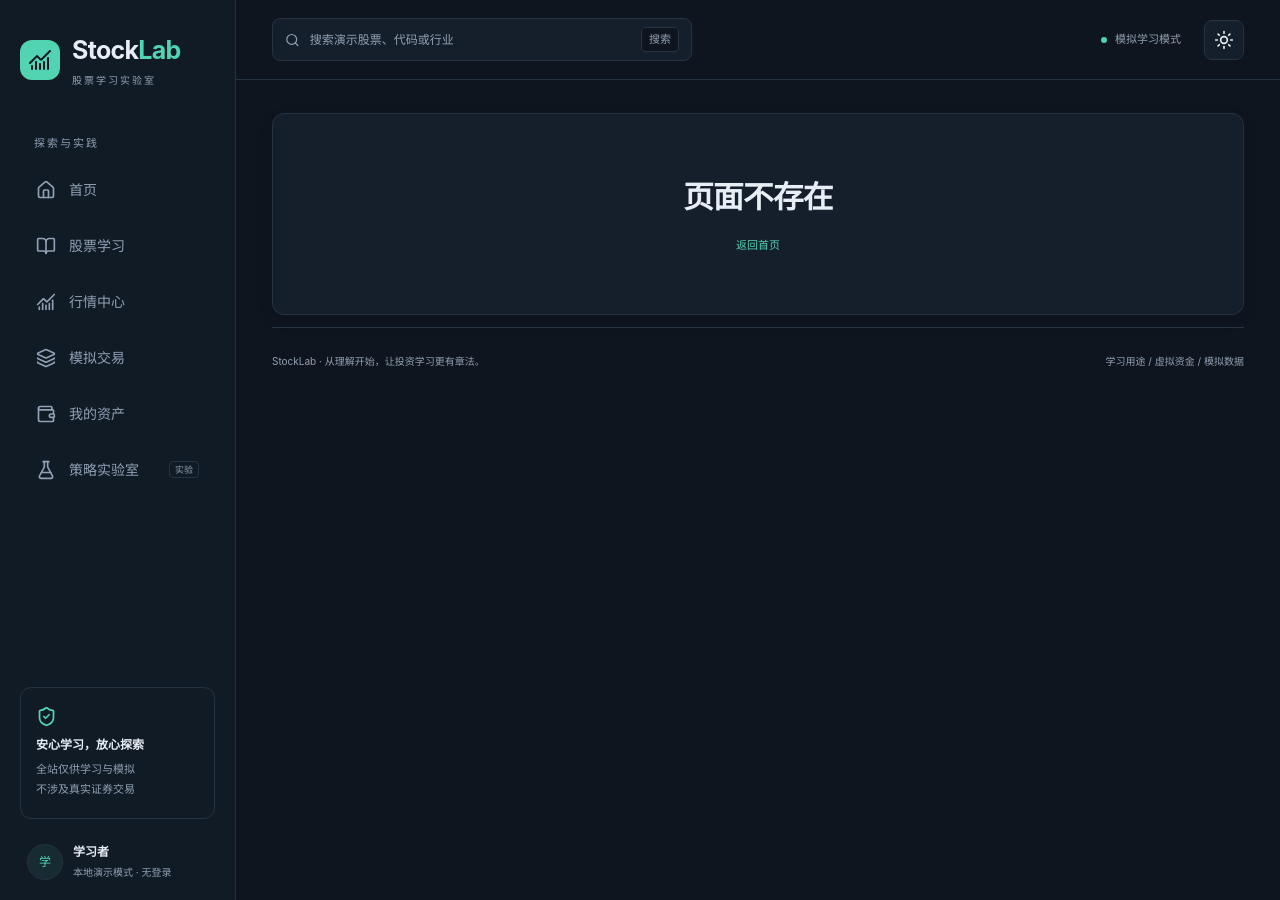
it: 六个页面均能通过导航访问，未知路径可以返回首页
The image size is (1280, 900).
expect the heading "页面不存在" is shown: met, box [683,174,833,220]
Click the link "首页": (66, 190) [36,180,97,200]
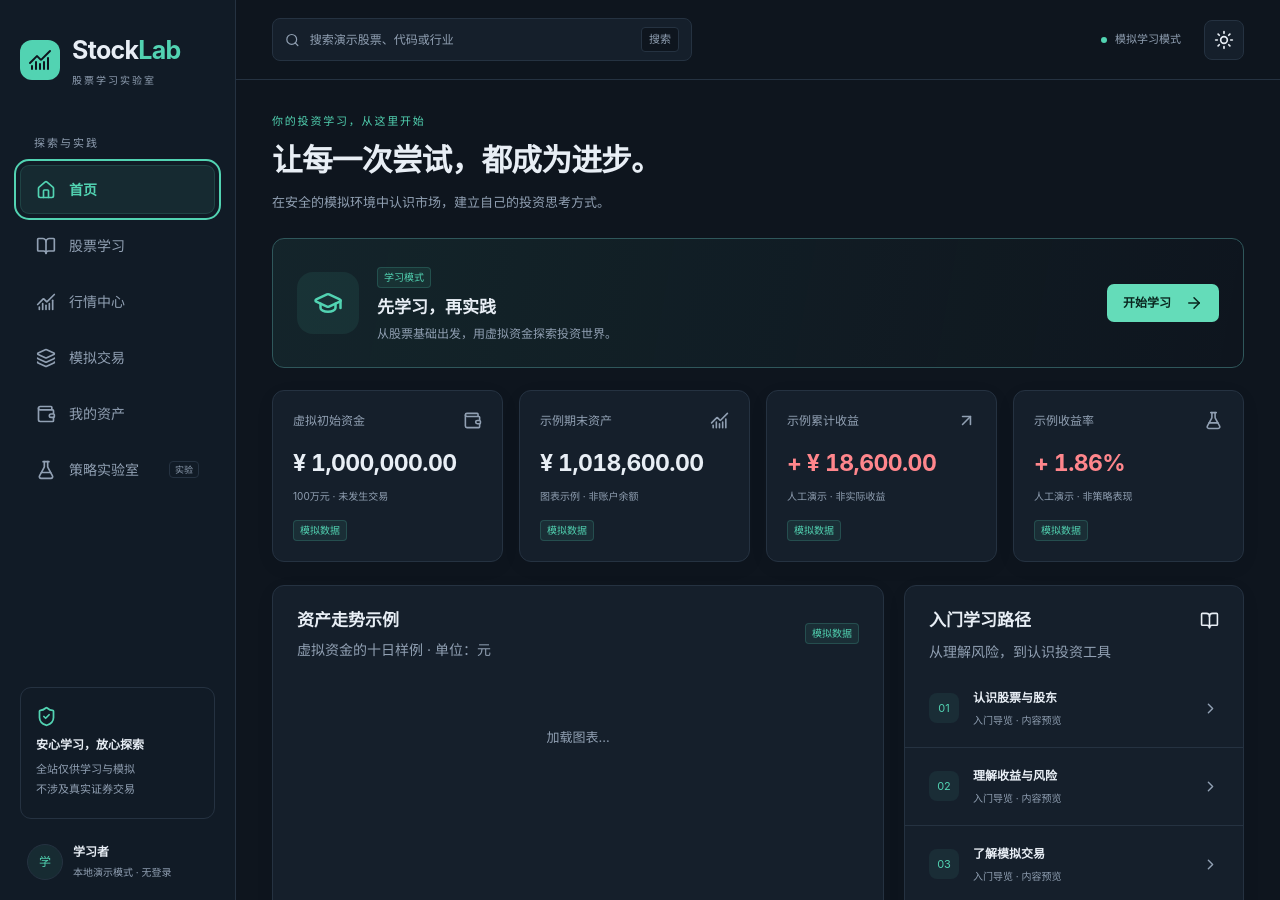
expect the heading "让每一次尝试，都成为进步。" is shown: met, box [272,140,661,178]
Click the link "股票学习": (80, 246) [36,236,125,256]
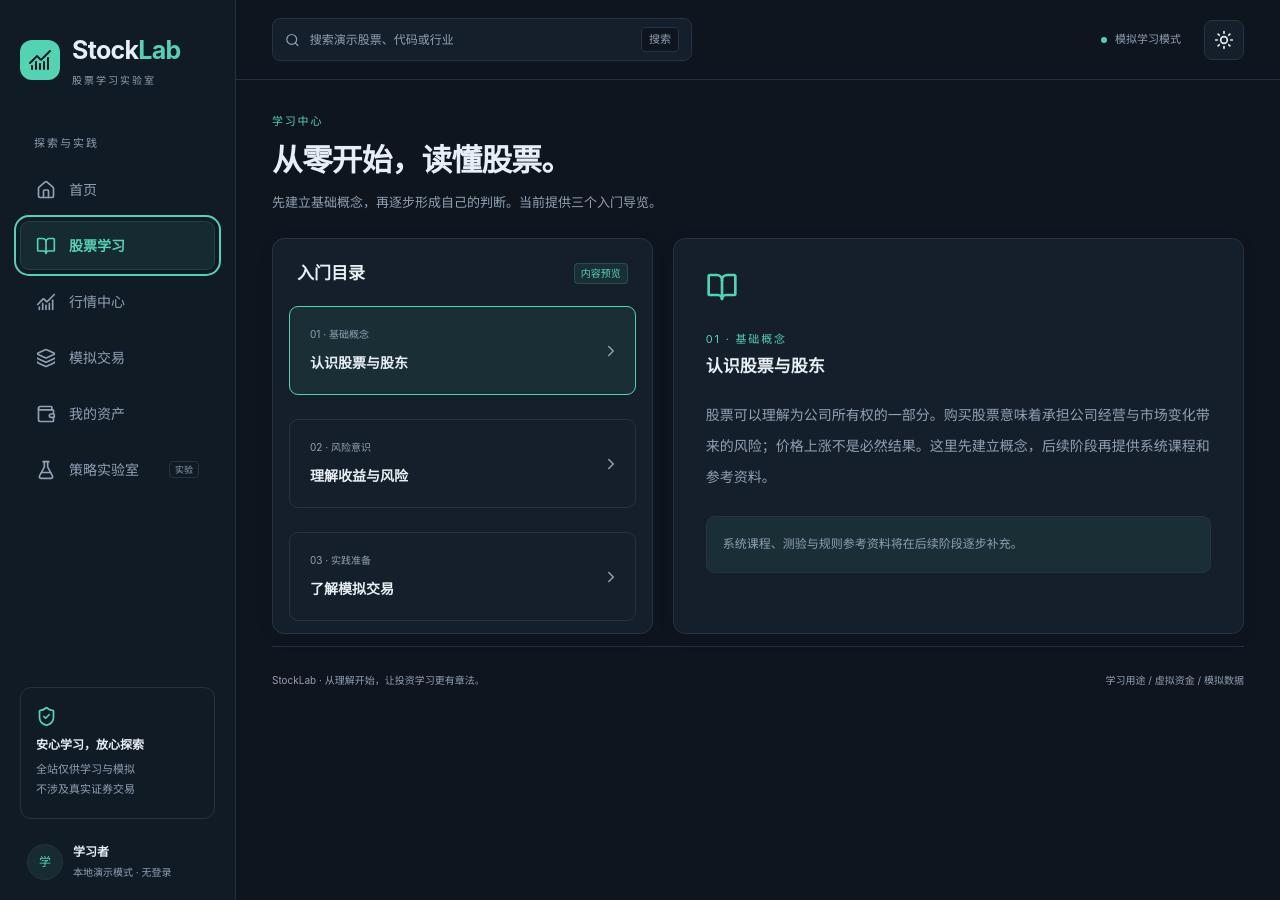
expect the heading "从零开始，读懂股票。" is shown: met, box [272,140,571,178]
Click the link "行情中心": (80, 302) [36,292,125,312]
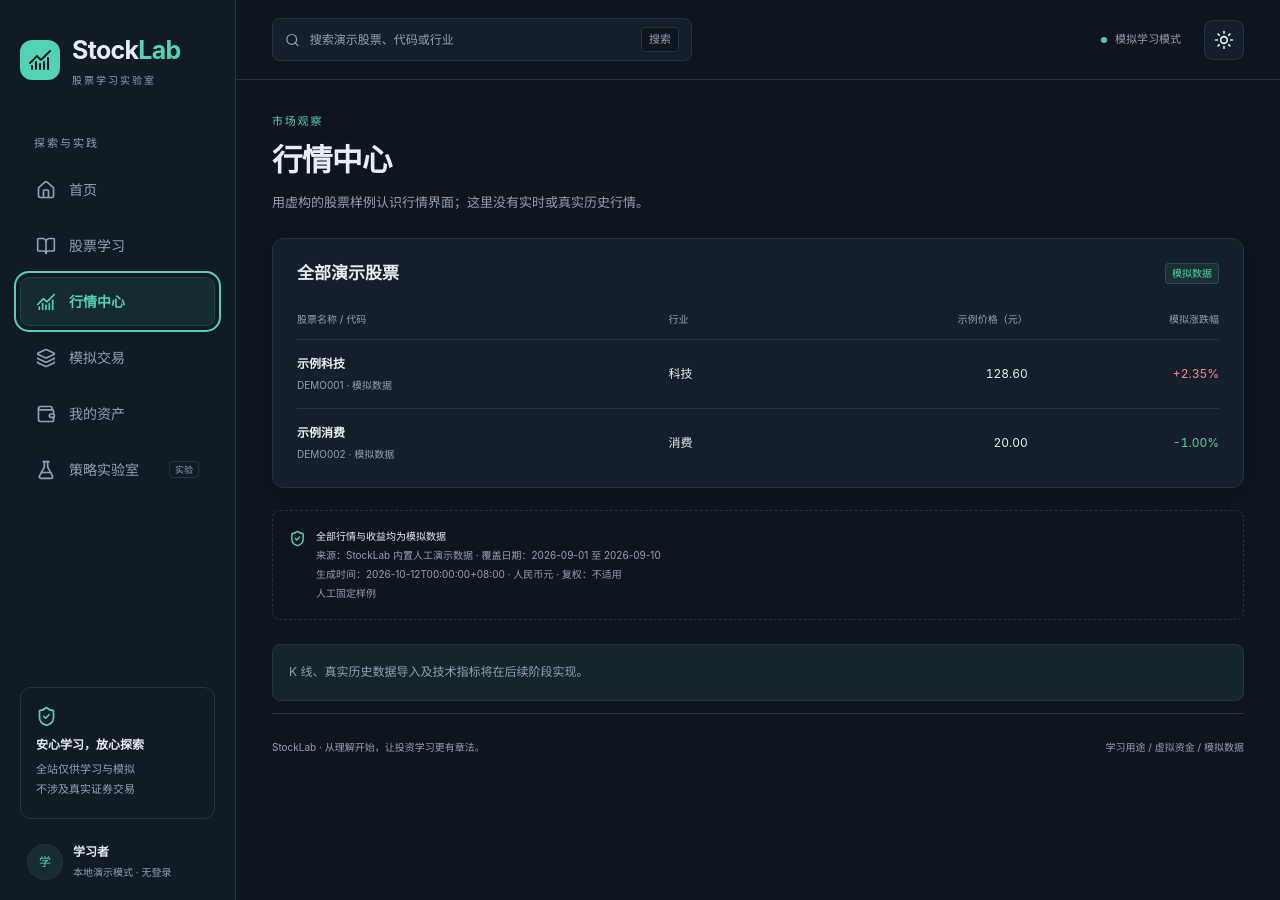
expect the heading "行情中心" is shown: met, box [272,140,392,178]
Click the link "模拟交易": (80, 358) [36,348,125,368]
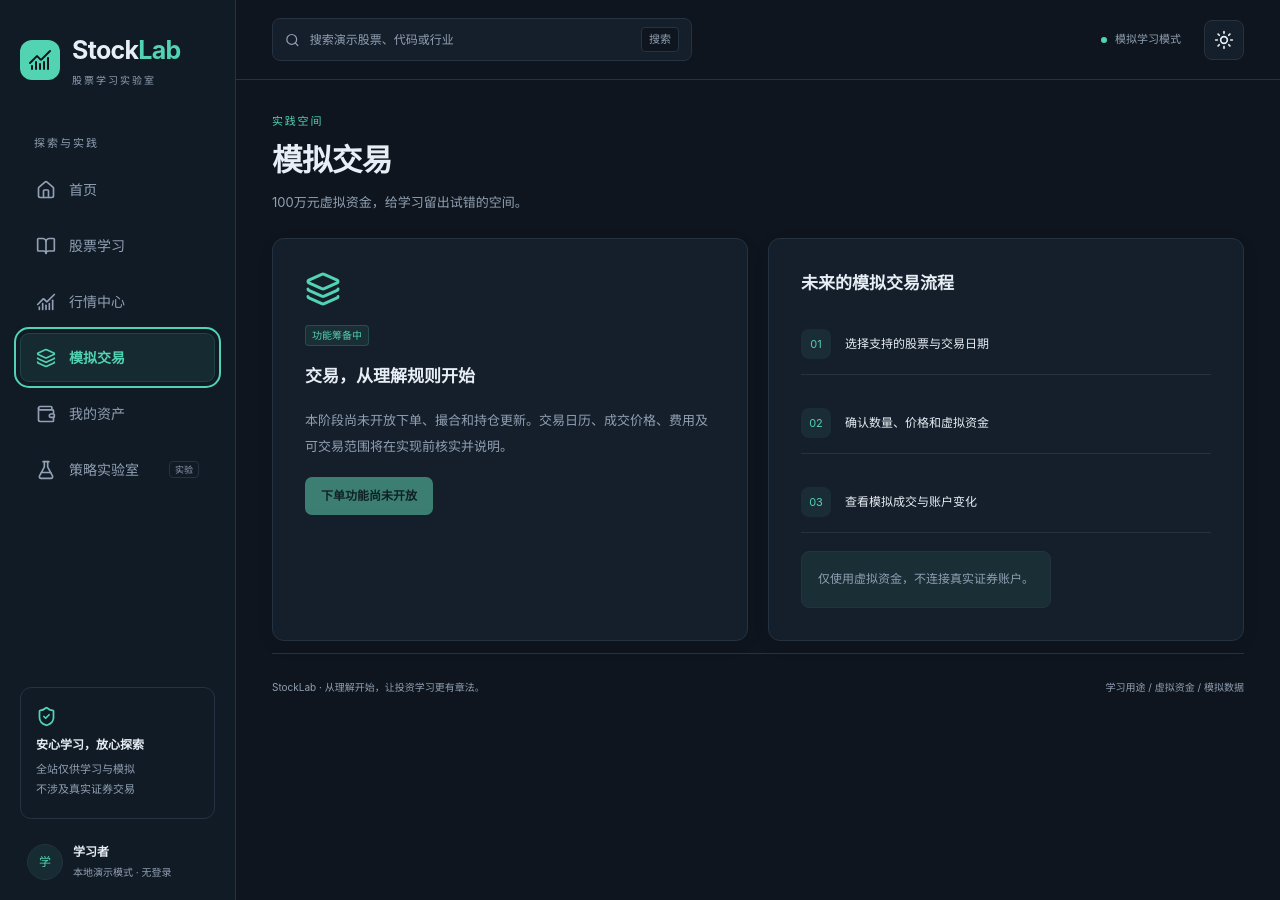
expect the heading "模拟交易" is shown: met, box [272,140,392,178]
Click the link "我的资产": (80, 414) [36,404,125,424]
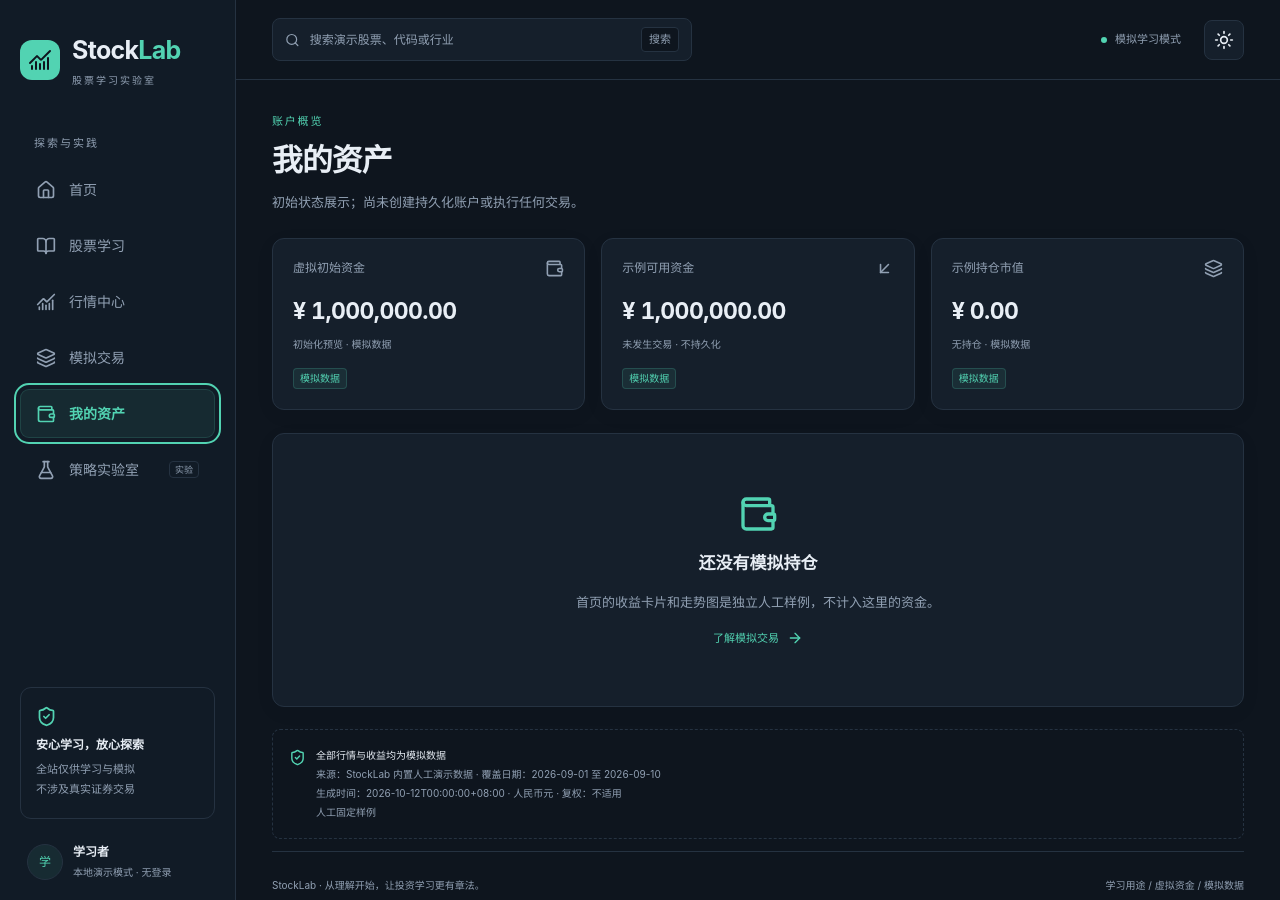
expect the heading "我的资产" is shown: met, box [272,140,392,178]
Click the link "策略实验室 实验": (118, 470) [36,460,199,480]
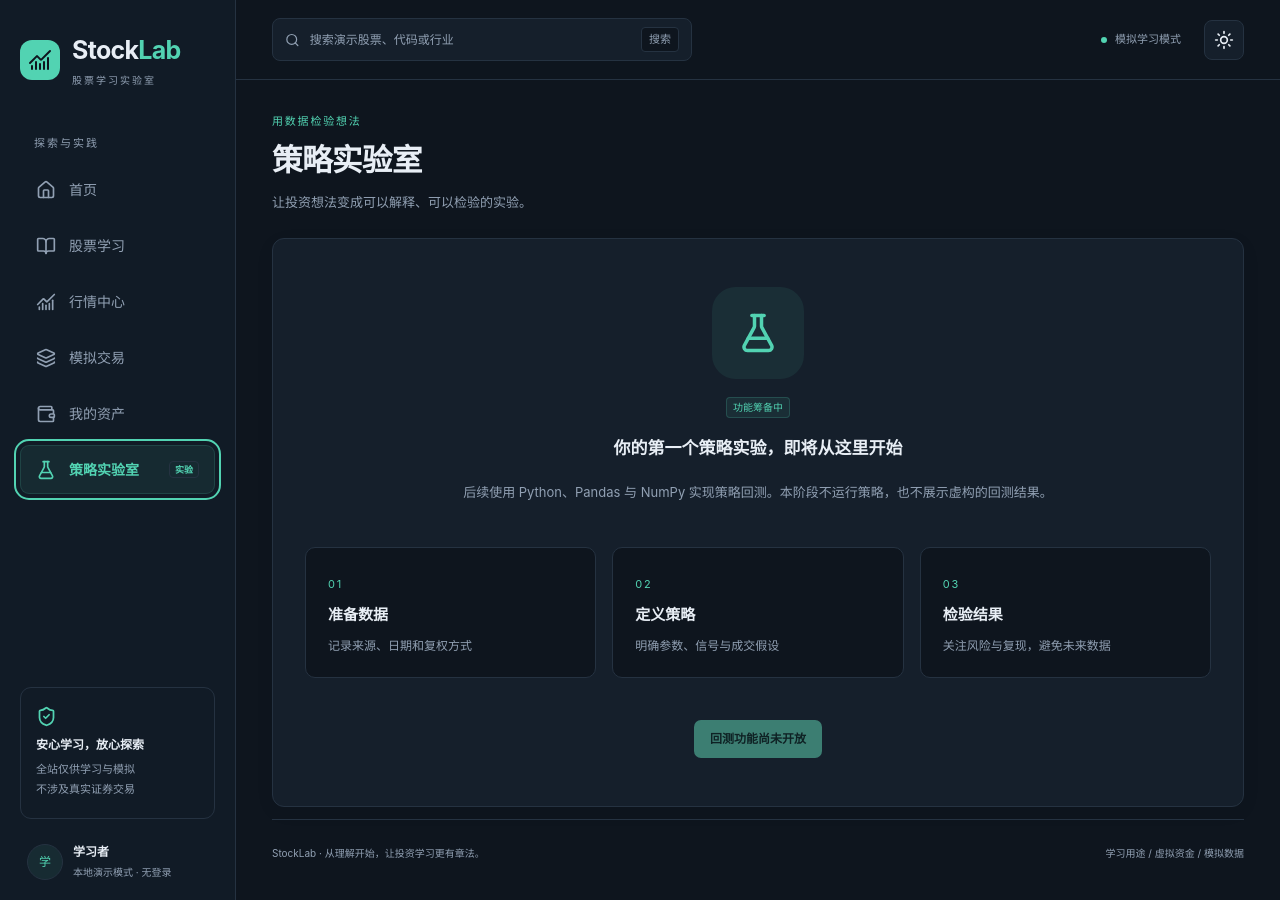
expect the heading "策略实验室" is shown: met, box [272,140,422,178]
